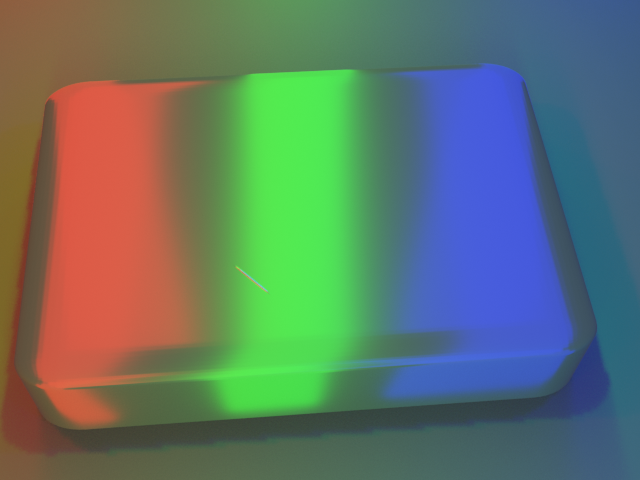scratch: (166, 239, 320, 332)
